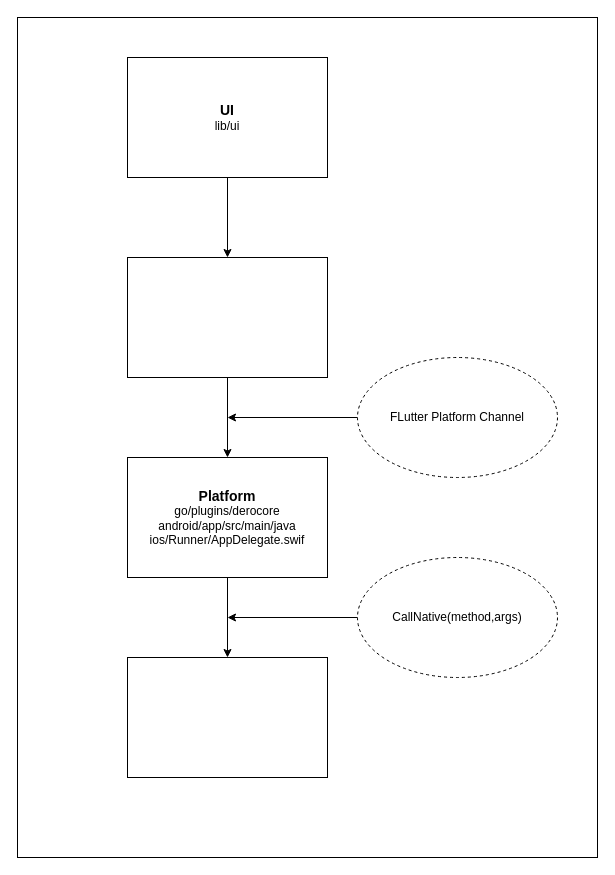
Some shapes in this 615 by 875 pixel diagram are drawn without their labels. The box of each missing label's shape, as (x1, y1, x2, y2) in pixels:
Core lib/core: (126, 256, 328, 378)
Derocore: (126, 656, 328, 778)
